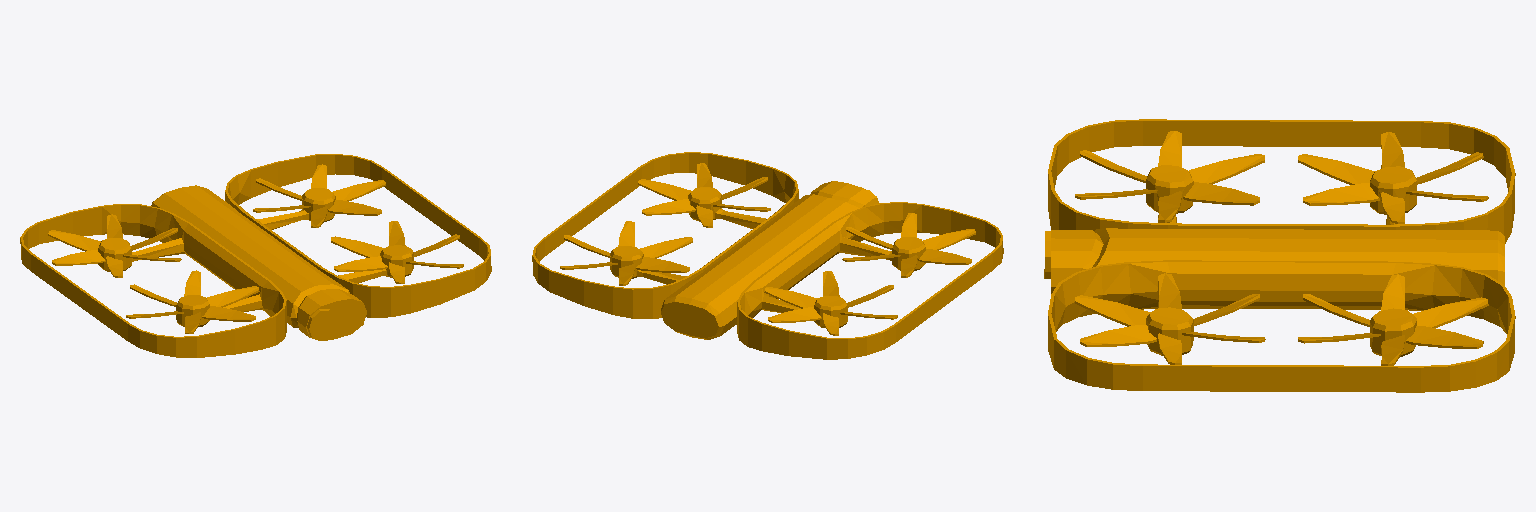
URDF robot description (Skydio_R1):
<?xml version="1.0"?>
<robot name="Skydio_R1">
  <link name="base_link">
    <visual>
		<origin rpy="0.0 0 0" xyz="0 0 0"/>
		<geometry>
			<mesh filename="package://skydio-description/meshes/skydio-r1.stl"/>
      </geometry>
    </visual>
  </link>
</robot>

--- What the picture shows (computed from the rendered views, not written in the file) ---
3 views of the same robot in one strip: view 1: azimuth 30°, elevation 25°; view 2: azimuth 150°, elevation 25°; view 3: azimuth 270°, elevation 25° (orthographic).
Robot: Skydio_R1 — 1 links, 0 joints (none); root link base_link; default pose: every joint at zero.
Links seen in each view (by area): view 1: base_link; view 2: base_link; view 3: base_link.
Link boxes in pixels (x1,y1,x2,y2): base_link: [20, 154, 491, 357]; base_link: [532, 152, 1003, 359]; base_link: [1044, 119, 1515, 392].
Size in the robot's own frame: 10.32 by 8.32 by 1.26 metres.
1 mesh visuals loaded from 1 distinct referenced files (1 binary STL).